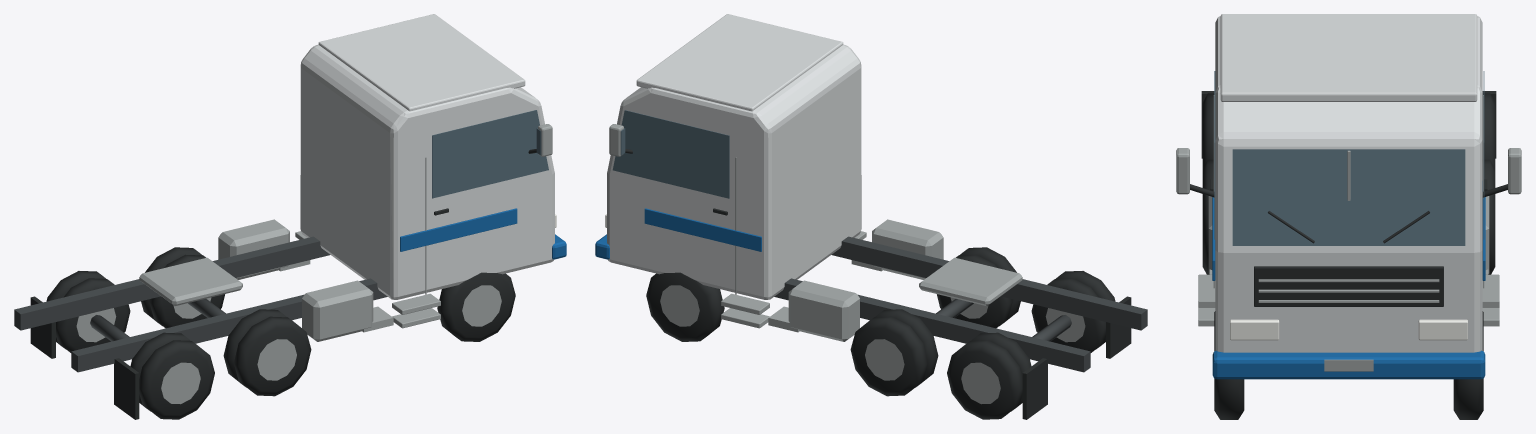
Rendered from SM_MPR4_Tractor.fbx.
3 renders of one model, left to right at view 1: azimuth 30°, elevation 25°; view 2: azimuth 150°, elevation 25°; view 3: azimuth 270°, elevation 25°, orthographic. The views are drawn at different scales.
Parts seen in each view (by area): view 1: SM_MPR4_Tractor; view 2: SM_MPR4_Tractor; view 3: SM_MPR4_Tractor.
Boxes of the visible parts, x1=… form: SM_MPR4_Tractor: x1=14, y1=14, x2=566, y2=419; SM_MPR4_Tractor: x1=595, y1=14, x2=1147, y2=419; SM_MPR4_Tractor: x1=1176, y1=14, x2=1521, y2=419.
Size of the model in its own units: 671 by 300 by 338.
